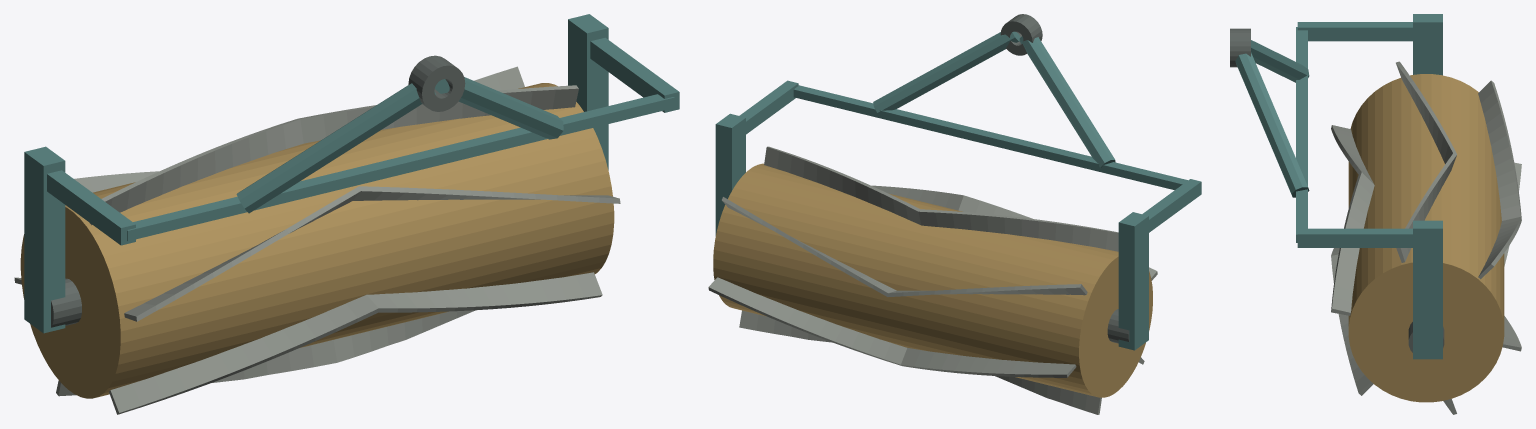
3 views of the same model, side by side, from view 1: azimuth 30°, elevation 25°; view 2: azimuth 150°, elevation 25°; view 3: azimuth 270°, elevation 25° (orthographic). The views are drawn at different scales.
Visible parts, largest first — view 1: WholeBroadClosedCrimperDrum, WholeContinuousChevronCrimpRib5, WholeRaisedFrontYokeCrossbeam, WholeContinuousChevronCrimpRib3, WholeRaisedYokeBearingCheek0, WholeContinuousChevronCrimpRib4, WholeConvergingHitchBrace0, WholeContinuousChevronCrimpRib0, WholeRaisedYokeBearingCheek1, WholeConvergingHitchBrace1, WholeForwardYokeSideRail0, WholeForwardYokeSideRail1 (+3 smaller); view 2: WholeBroadClosedCrimperDrum, WholeContinuousChevronCrimpRib1, WholeContinuousChevronCrimpRib3, WholeRaisedFrontYokeCrossbeam, WholeRaisedYokeBearingCheek0, WholeContinuousChevronCrimpRib2, WholeConvergingHitchBrace0, WholeConvergingHitchBrace1, WholeRaisedYokeBearingCheek1, WholeContinuousChevronCrimpRib0, WholeContinuousChevronCrimpRib4, WholeForwardYokeSideRail0 (+3 smaller); view 3: WholeBroadClosedCrimperDrum, WholeRaisedYokeBearingCheek1, WholeContinuousChevronCrimpRib2, WholeContinuousChevronCrimpRib4, WholeConvergingHitchBrace1, WholeContinuousChevronCrimpRib3, WholeForwardYokeSideRail1, WholeForwardYokeSideRail0, WholeRaisedFrontYokeCrossbeam, WholeRaisedYokeBearingCheek0, WholeConvergingHitchBrace0, WholeContinuousChevronCrimpRib5 (+2 smaller).
Boxes of the visible parts, x1,y1,x2,y2 form: WholeBroadClosedCrimperDrum: (20,83,614,398); WholeContinuousChevronCrimpRib5: (109,272,602,414); WholeRaisedFrontYokeCrossbeam: (127,94,674,241); WholeContinuousChevronCrimpRib3: (90,85,578,225); WholeRaisedYokeBearingCheek0: (24,146,65,333); WholeContinuousChevronCrimpRib4: (124,186,620,321); WholeConvergingHitchBrace0: (236,83,435,213); WholeContinuousChevronCrimpRib0: (56,310,475,396); WholeRaisedYokeBearingCheek1: (568,14,608,170); WholeConvergingHitchBrace1: (435,77,563,139); WholeForwardYokeSideRail0: (47,170,135,245); WholeForwardYokeSideRail1: (590,37,679,112); WholeBroadClosedCrimperDrum: (713,163,1152,397); WholeContinuousChevronCrimpRib1: (708,277,1076,377); WholeContinuousChevronCrimpRib3: (764,146,1118,251); WholeRaisedFrontYokeCrossbeam: (793,85,1187,190); WholeRaisedYokeBearingCheek0: (1118,212,1148,350); WholeContinuousChevronCrimpRib2: (722,197,1087,296); WholeConvergingHitchBrace0: (1019,36,1115,168); WholeConvergingHitchBrace1: (873,31,1020,113); WholeRaisedYokeBearingCheek1: (715,113,745,235); WholeContinuousChevronCrimpRib0: (739,310,1101,414); WholeContinuousChevronCrimpRib4: (872,185,1157,280); WholeForwardYokeSideRail0: (1142,179,1201,232); WholeBroadClosedCrimperDrum: (1348,74,1504,402); WholeRaisedYokeBearingCheek1: (1413,220,1442,359); WholeContinuousChevronCrimpRib2: (1478,80,1521,279); WholeContinuousChevronCrimpRib4: (1331,125,1374,315); WholeConvergingHitchBrace1: (1235,52,1309,197); WholeContinuousChevronCrimpRib3: (1396,61,1456,262); WholeForwardYokeSideRail1: (1297,228,1412,247); WholeForwardYokeSideRail0: (1297,22,1412,41); WholeRaisedFrontYokeCrossbeam: (1296,27,1307,242); WholeRaisedYokeBearingCheek0: (1413,14,1442,75); WholeConvergingHitchBrace0: (1251,40,1309,82); WholeContinuousChevronCrimpRib5: (1331,248,1373,395).
Bounding box in the file's own units: 3.39 × 2.18 × 1.95.
